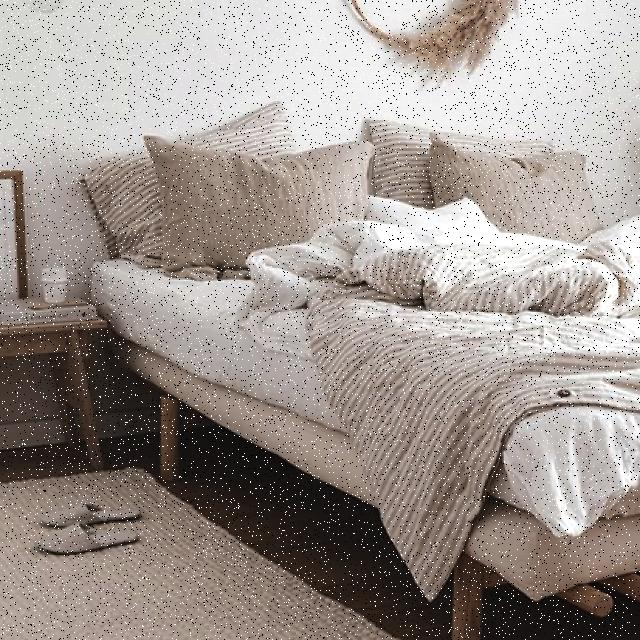bed: (87, 96, 640, 608)
